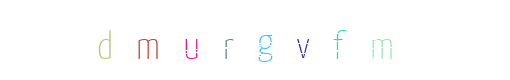D: (79, 0, 159, 80)
F: (295, 0, 375, 80)
G: (227, 0, 307, 80)
M: (109, 0, 189, 80), (298, 0, 378, 80)
R: (215, 0, 295, 80)
U: (151, 0, 231, 80)
V: (237, 0, 317, 80)
